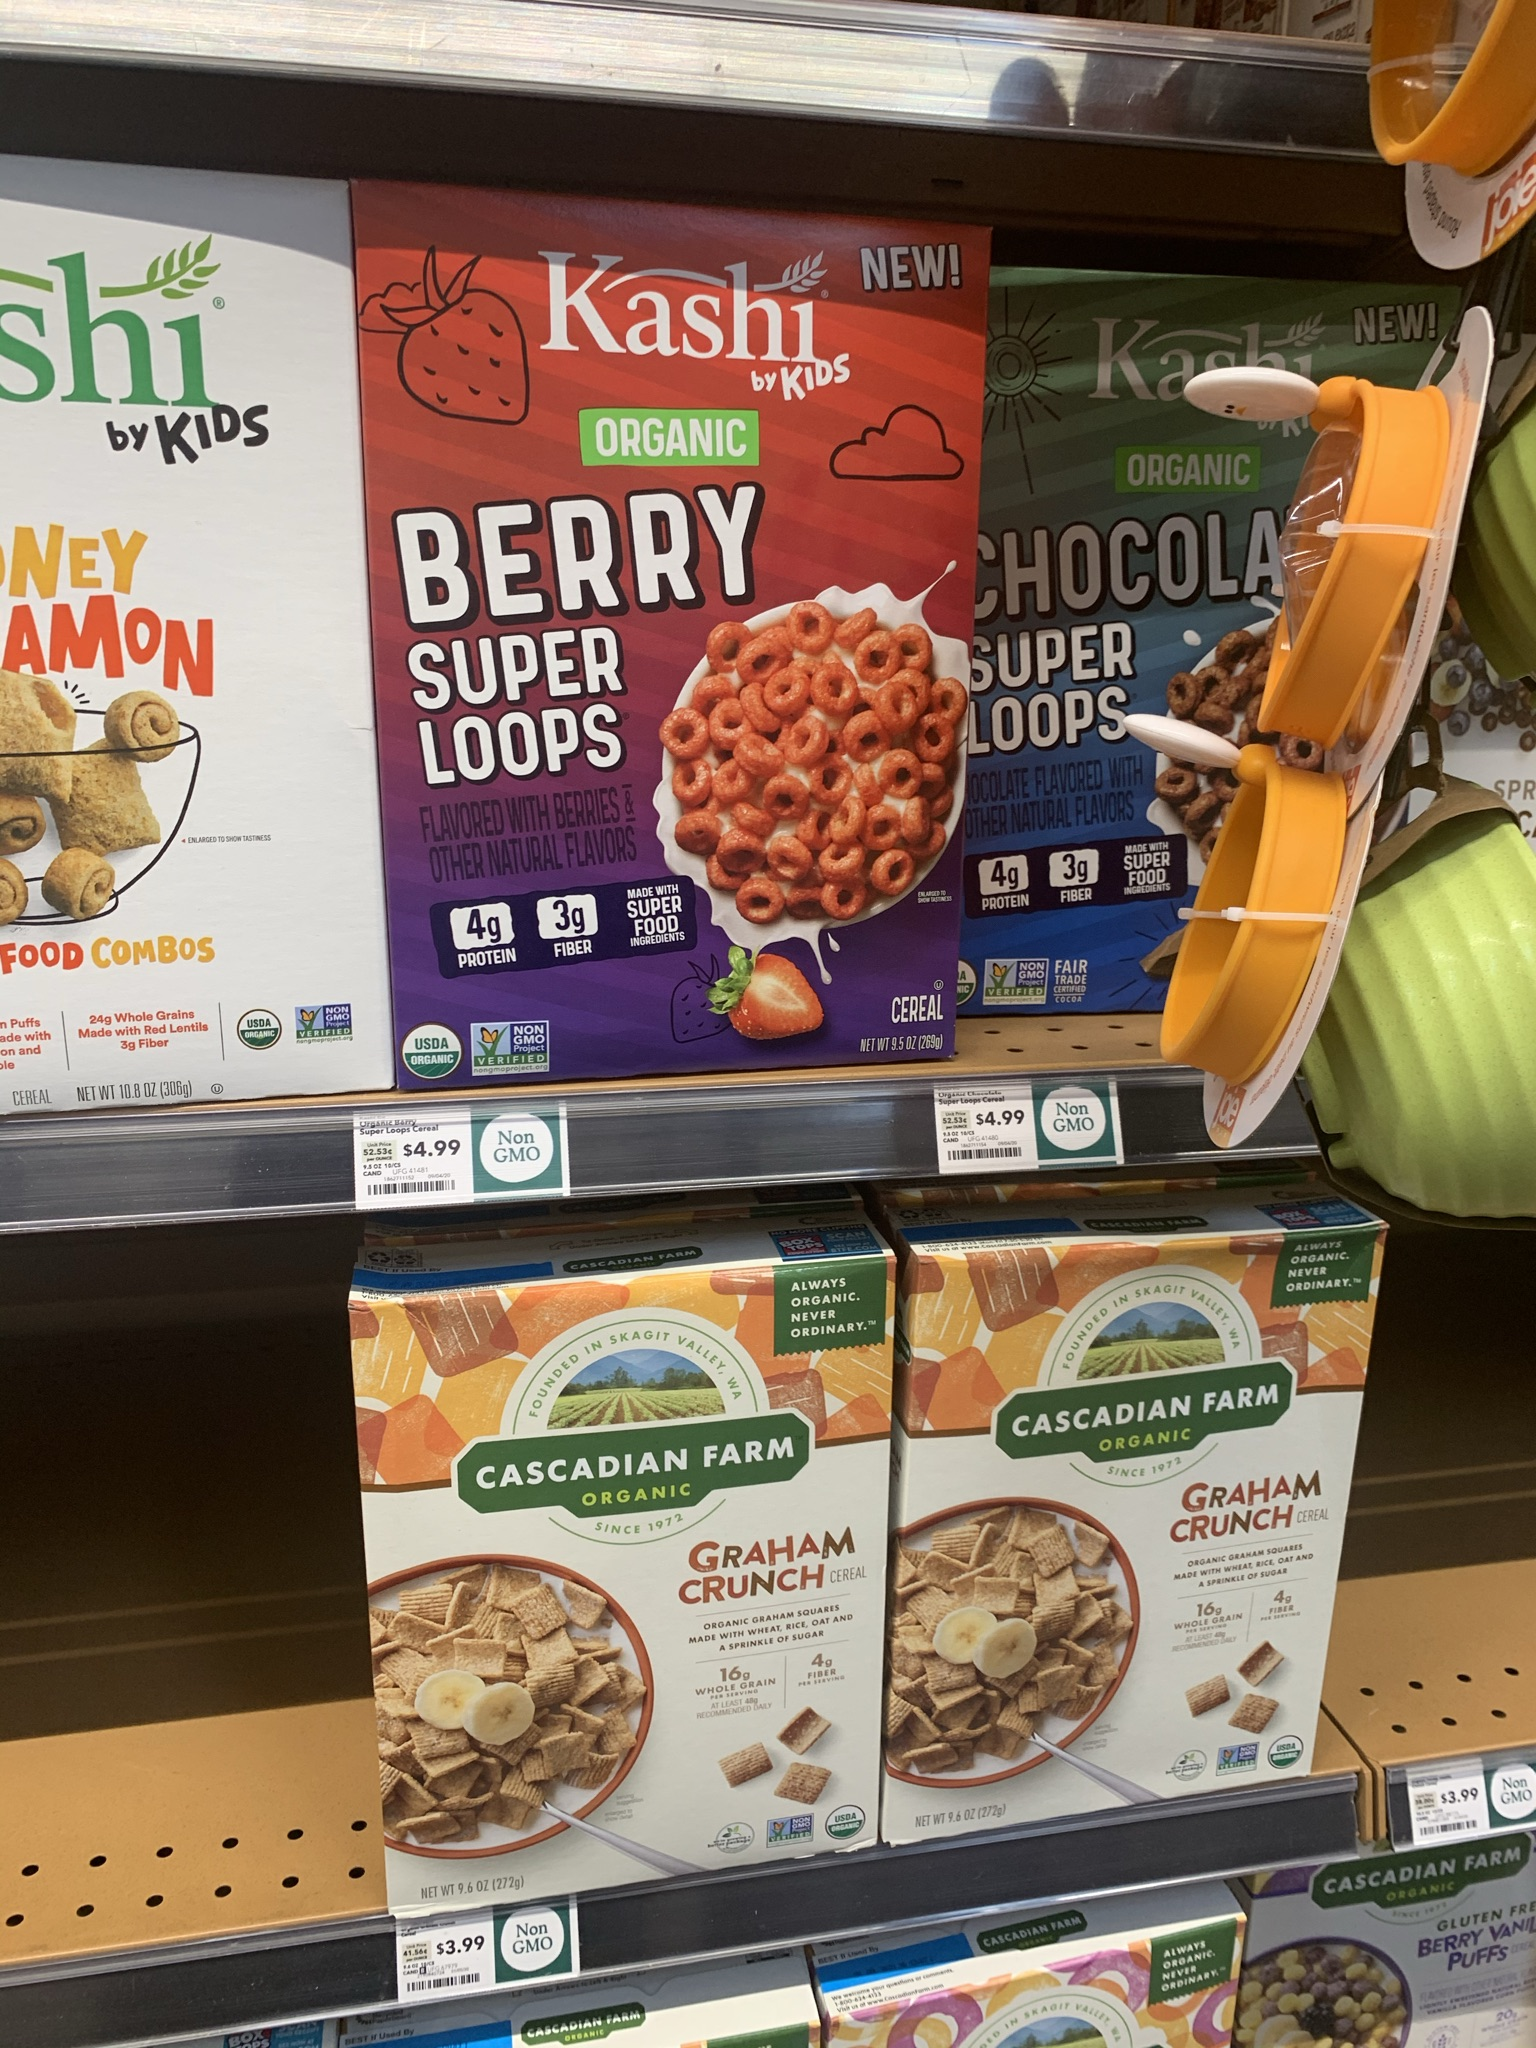box: (403, 239, 991, 1064), (2, 197, 352, 1097), (424, 1314, 868, 1854), (928, 1271, 1313, 1785)
